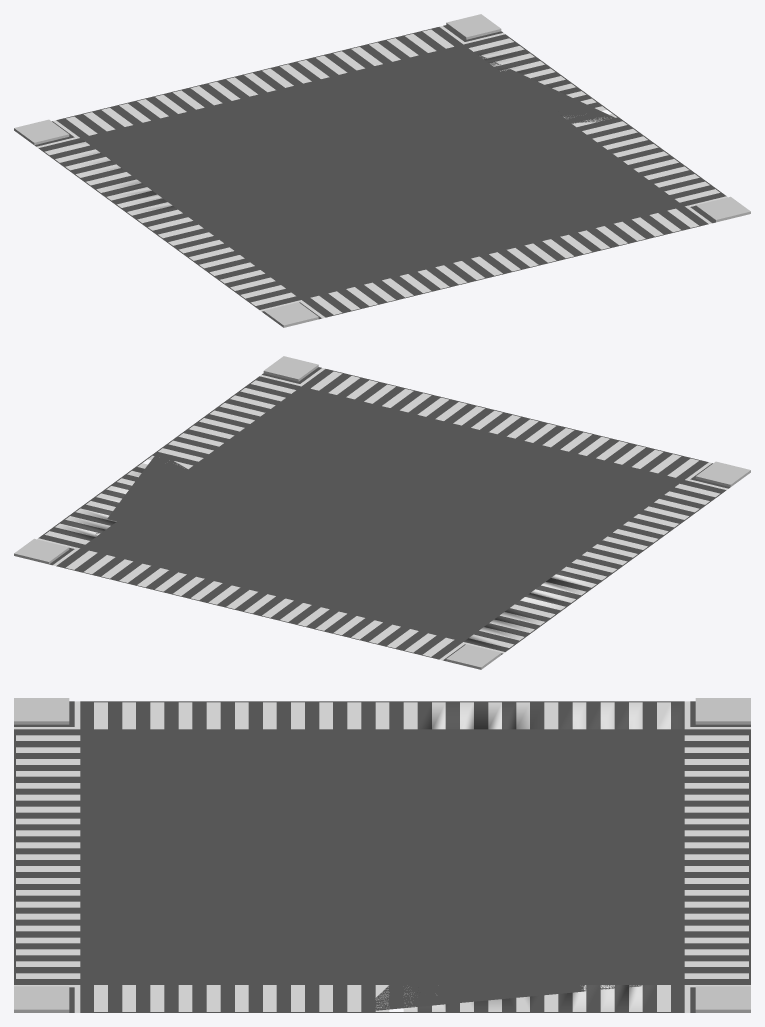
File: SPW_Urban_Road 4way_Intersection.gltf
The picture shows the model from 3 angles, top to bottom: view 1: azimuth 30°, elevation 25°; view 2: azimuth 150°, elevation 25°; view 3: azimuth 270°, elevation 25°; orthographic projection. The views are drawn at different scales.
Parts seen in each view (by area): view 1: SPW_Urban_Road_4way_Intersection; view 2: SPW_Urban_Road_4way_Intersection; view 3: SPW_Urban_Road_4way_Intersection.
Boxes of the visible parts, bbox=[...] form: SPW_Urban_Road_4way_Intersection: bbox=[14, 14, 750, 327]; SPW_Urban_Road_4way_Intersection: bbox=[14, 356, 750, 669]; SPW_Urban_Road_4way_Intersection: bbox=[14, 698, 750, 1012].
Bounding box in the file's own units: 1575 × 7.87 × 1575.
1 material, 1 textured.
